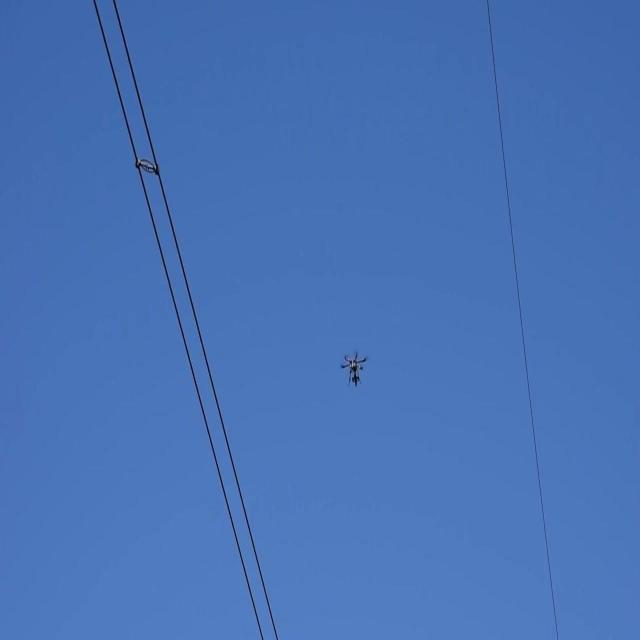UAV: (340, 351, 368, 387)
